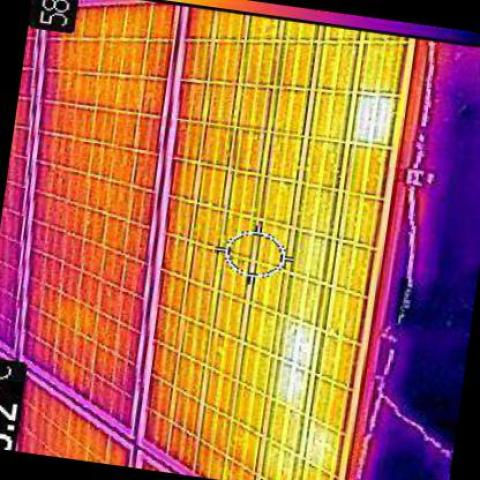fault: (278, 325, 312, 394), (356, 95, 394, 137)
